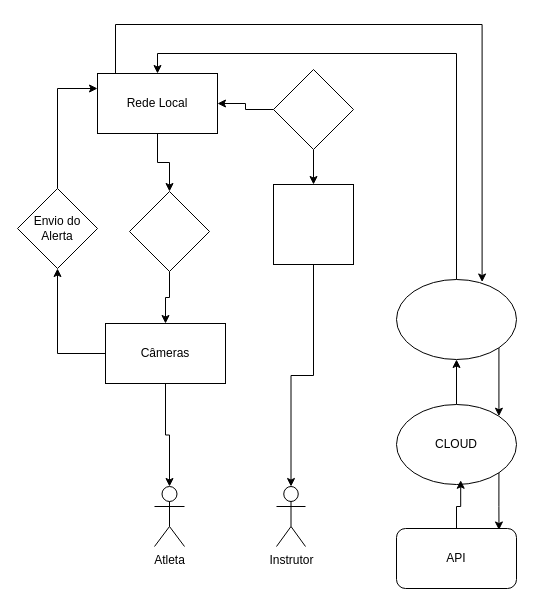
Some shapes in this 534 by 606 pixel diagram are drawn without their labels. Each missing label, with the centre of its shape:
"Camera Ligada à rede local" goes at (169,231).
"Internet WIFI" goes at (456,319).
"PC/Telemovel" goes at (313,224).
"Recebe o Alerta" goes at (313,109).
